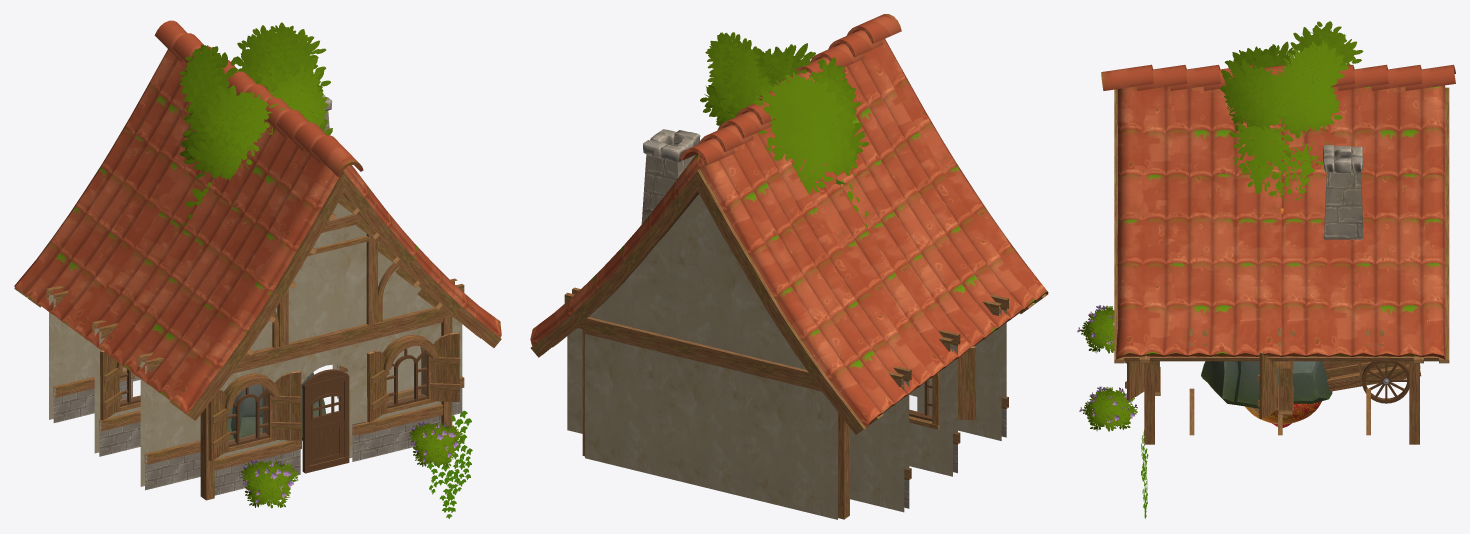
File: orchard.glb
3 renders of one model, left to right at view 1: azimuth 30°, elevation 25°; view 2: azimuth 150°, elevation 25°; view 3: azimuth 270°, elevation 25°, orthographic. The views are drawn at different scales.
Visible parts, largest first — view 1: farmhouse_mesh, tree_1_mesh, tree_2_mesh, rock_1_mesh; view 2: farmhouse_mesh, tree_1_mesh, tree_2_mesh; view 3: farmhouse_mesh, tree_2_mesh, wagon_mesh, tree_1_mesh, rock_1_mesh, rock_2_mesh, tree_apple_2_mesh, fruit_apple_mesh, tree_apple_1_mesh.
Part boxes in pixels (box(x1,y1,x2,y2)): farmhouse_mesh: box(14, 20, 501, 518); tree_1_mesh: box(179, 25, 311, 204); tree_2_mesh: box(184, 22, 332, 152); rock_1_mesh: box(228, 372, 325, 440); farmhouse_mesh: box(530, 14, 1048, 519); tree_1_mesh: box(716, 38, 869, 194); tree_2_mesh: box(700, 32, 861, 165); farmhouse_mesh: box(1077, 64, 1455, 518); tree_2_mesh: box(1220, 21, 1363, 166); wagon_mesh: box(1322, 361, 1421, 403); tree_1_mesh: box(1227, 31, 1361, 193); rock_1_mesh: box(1201, 361, 1278, 408); rock_2_mesh: box(1292, 361, 1332, 403); tree_apple_2_mesh: box(1240, 122, 1328, 214); fruit_apple_mesh: box(1245, 401, 1321, 424); tree_apple_1_mesh: box(1266, 133, 1311, 201).
Bounding box in the file's own units: 8.33 × 11.12 × 8.58.
21 materials, 16 textured.
